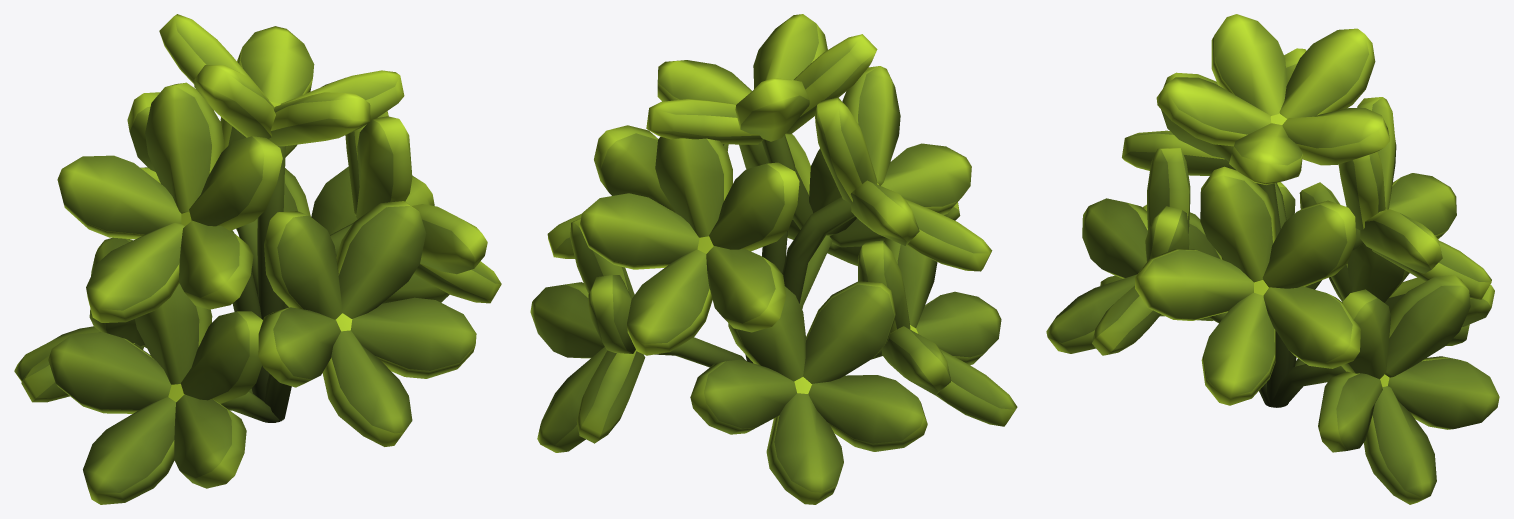
File: bushes_star_leaves_big_LOD_group.fbx
3 views of the same model, side by side, from view 1: azimuth 30°, elevation 25°; view 2: azimuth 150°, elevation 25°; view 3: azimuth 270°, elevation 25° (orthographic). The views are drawn at different scales.
Visible parts, largest first — view 1: bushes_star_leaves_big_LOD0; view 2: bushes_star_leaves_big_LOD0; view 3: bushes_star_leaves_big_LOD0.
Part boxes in pixels (box(x1,y1,x2,y2)): bushes_star_leaves_big_LOD0: box(14, 14, 501, 504); bushes_star_leaves_big_LOD0: box(530, 14, 1017, 504); bushes_star_leaves_big_LOD0: box(1046, 14, 1499, 504).
Size of what is drawn, in the model's own units: 286 by 263 by 278.
Materials: 1 (1 with a texture image).
